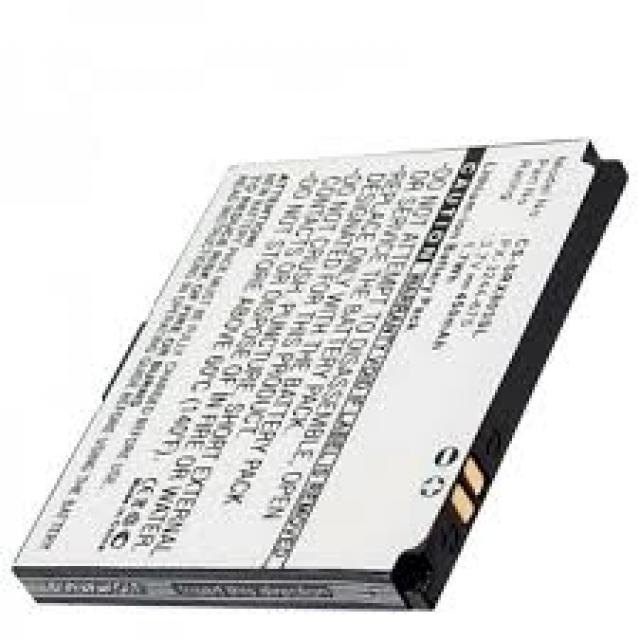non-organic waste: (21, 147, 629, 616)
